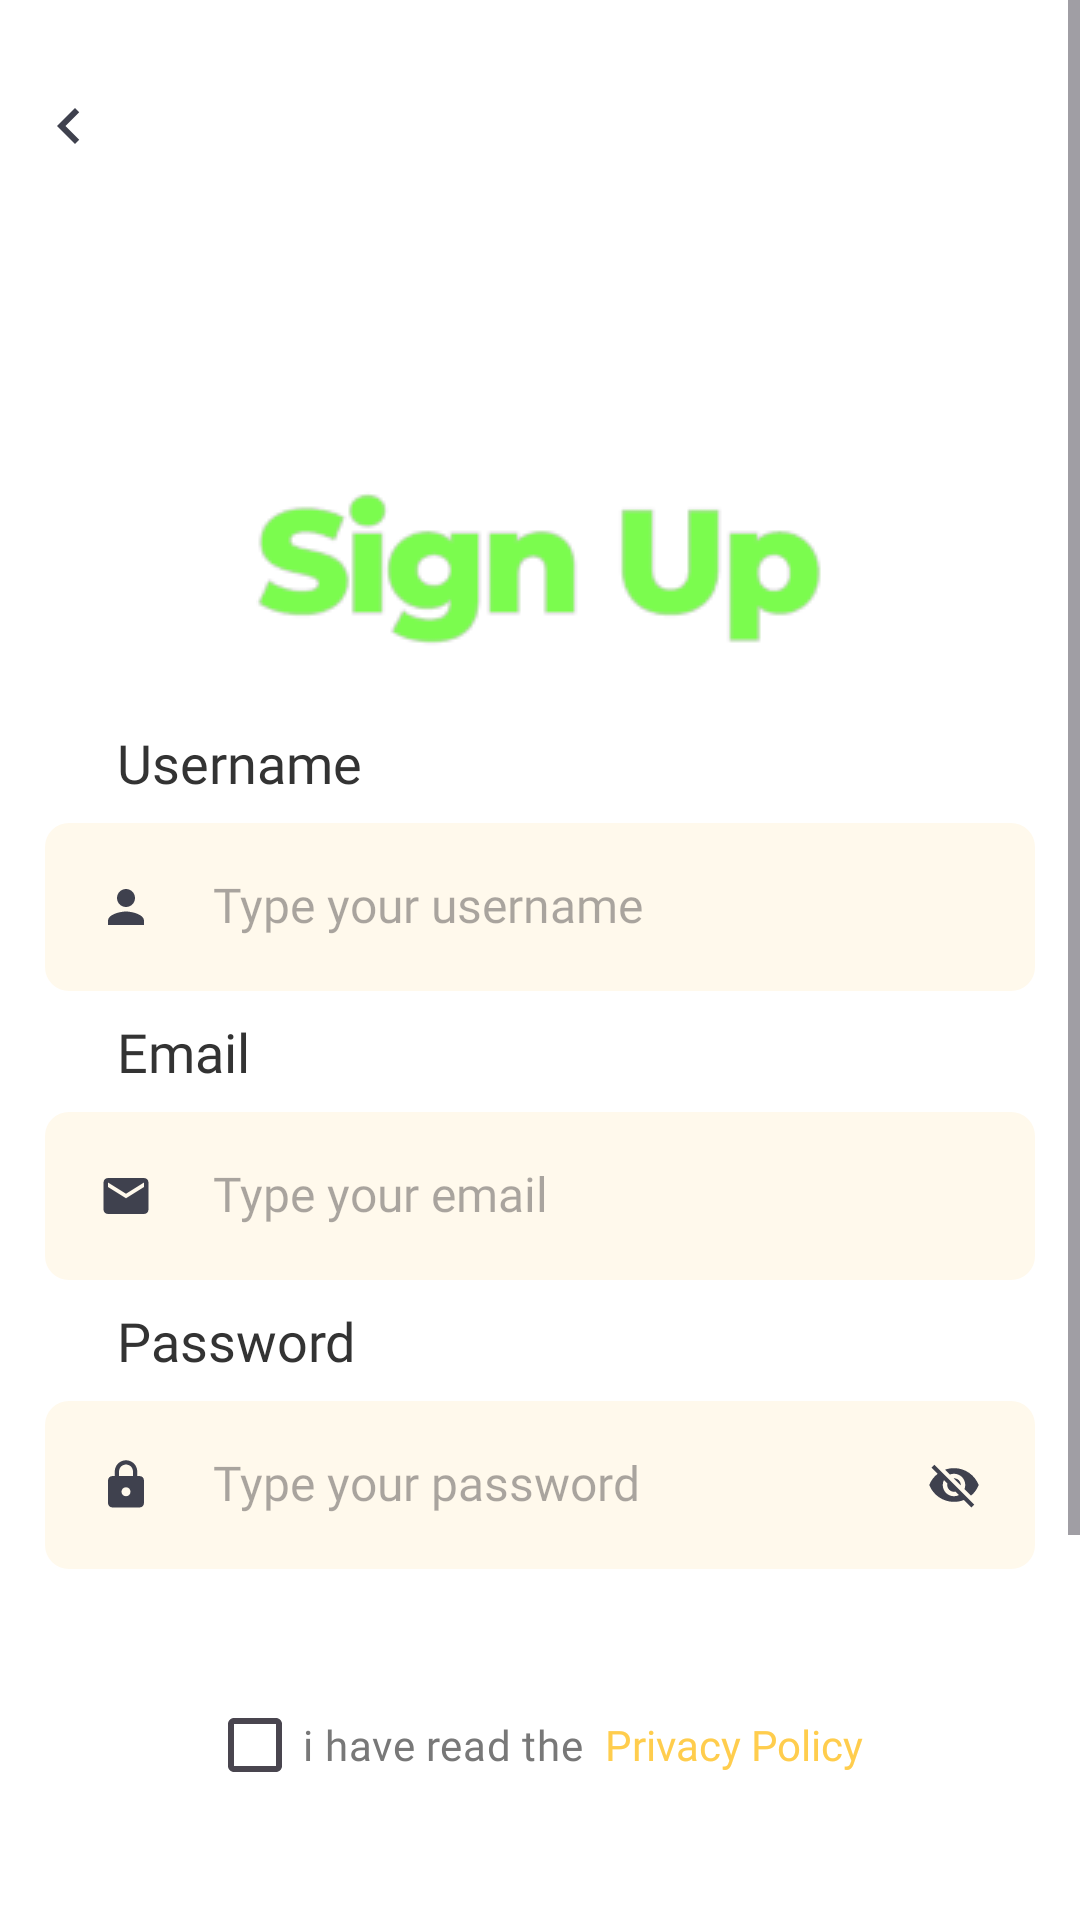

Named icons in this screenshot (1080x1920) and their bounding boxes, Rect(x1, y1, x2, y2):
chevron left: Rect(57, 108, 79, 144)
